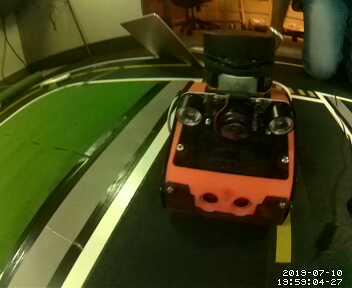pheeno: (158, 29, 295, 223)
